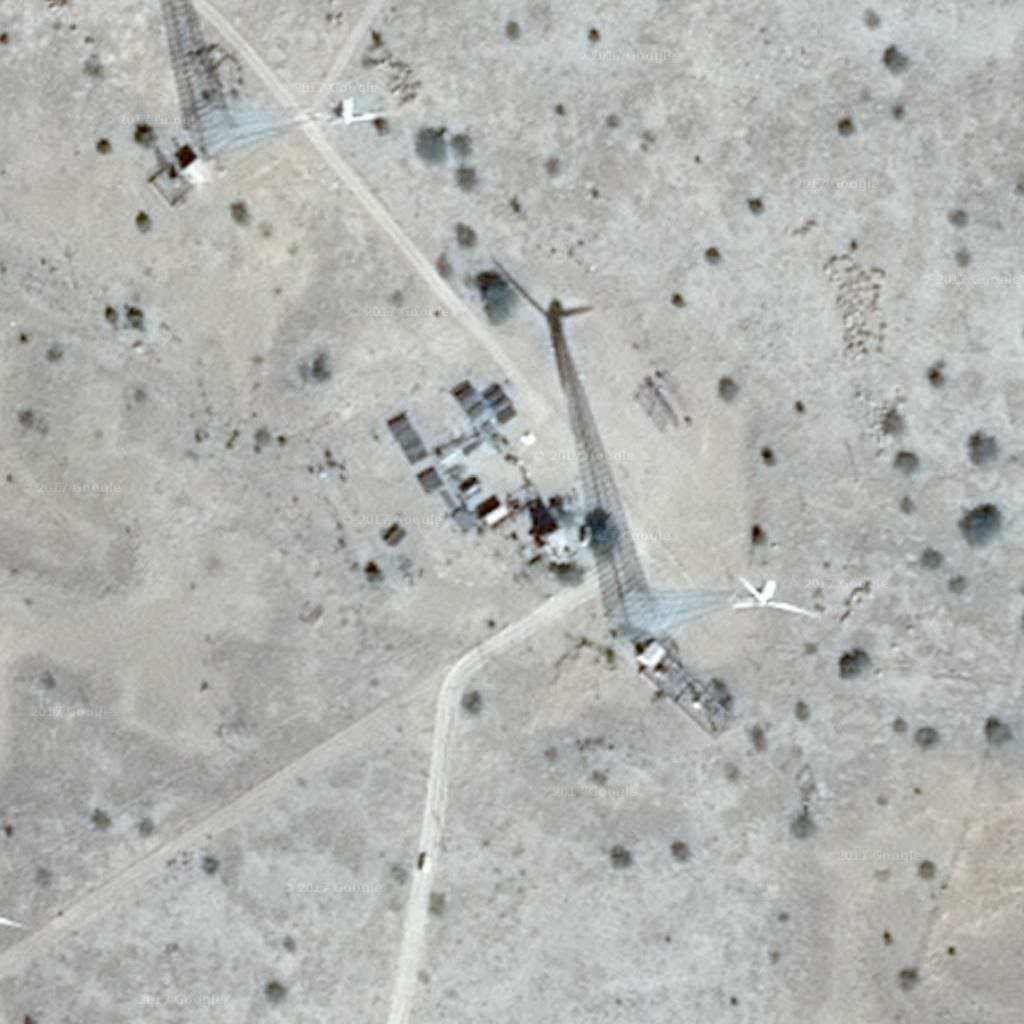Windmill: (494, 259, 678, 610)
